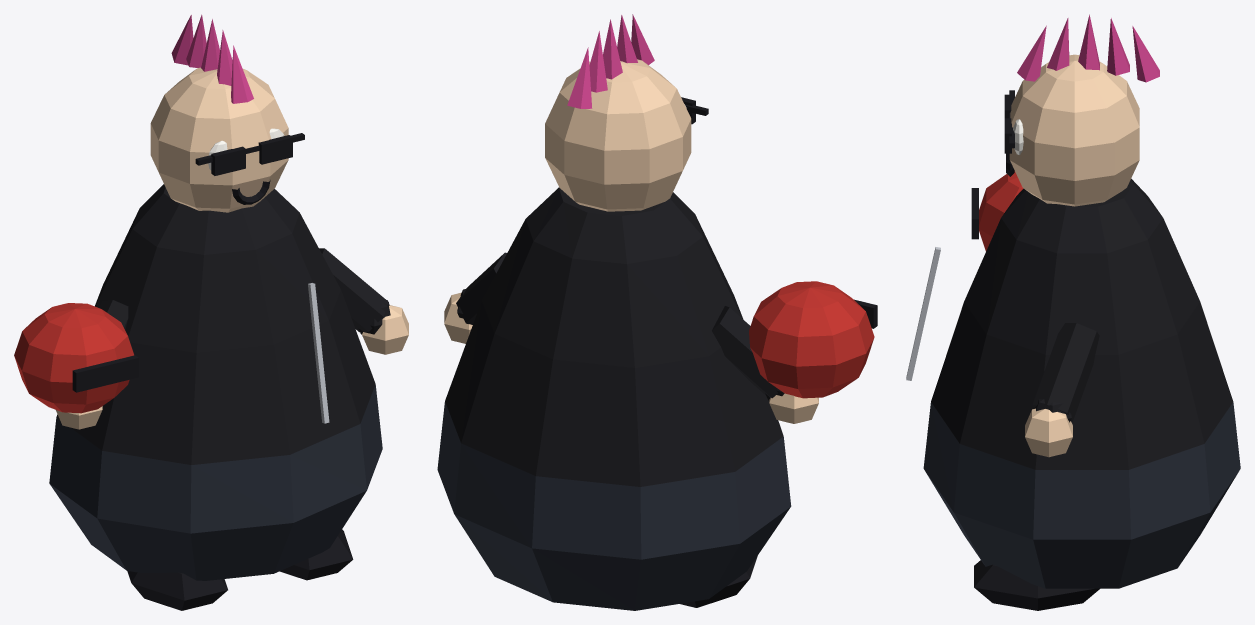
The model's file is npc_motoquera.glb.
3 renders of one model, left to right at view 1: azimuth 30°, elevation 25°; view 2: azimuth 150°, elevation 25°; view 3: azimuth 270°, elevation 25°, orthographic. The views are drawn at different scales.
Visible parts, largest first — view 1: body_biker_leather, body_jeans, head_skin_crema, props_helmet_red, legs_black, head_mohawk_pink, arms_biker_leather, face_black, arms_skin_crema, props_black, body_biker_silver; view 2: body_biker_leather, body_jeans, head_skin_crema, props_helmet_red, arms_biker_leather, head_mohawk_pink, arms_skin_crema, legs_black; view 3: body_biker_leather, body_jeans, head_skin_crema, arms_biker_leather, head_mohawk_pink, legs_black, arms_skin_crema, props_helmet_red, body_biker_silver, face_black.
Boxes of the visible parts, x1,y1,x2,y2 form: body_biker_leather: (56,184,375,464); body_jeans: (49,385,382,580); head_skin_crema: (150,67,288,212); props_helmet_red: (14,303,133,413); legs_black: (127,529,353,610); head_mohawk_pink: (171,14,253,103); arms_biker_leather: (99,248,390,334); face_black: (195,133,304,204); arms_skin_crema: (56,305,408,429); props_black: (72,355,138,392); body_biker_silver: (308,283,329,423); body_biker_leather: (445,187,783,486); body_jeans: (437,402,791,610); head_skin_crema: (545,59,691,211); props_helmet_red: (749,281,874,398); arms_biker_leather: (456,252,784,400); head_mohawk_pink: (567,14,654,108); arms_skin_crema: (444,292,818,423); legs_black: (680,556,757,607); body_biker_leather: (931,178,1233,469); body_jeans: (923,402,1240,588); head_skin_crema: (1009,54,1139,206); arms_biker_leather: (1032,323,1099,422); head_mohawk_pink: (1017,14,1159,82); legs_black: (974,560,1099,610); arms_skin_crema: (1025,408,1072,457); props_helmet_red: (979,171,1023,251); body_biker_silver: (906,247,940,380); face_black: (1004,90,1014,176).
Bounding box in the file's own units: 1.25 × 1.67 × 0.9071.
